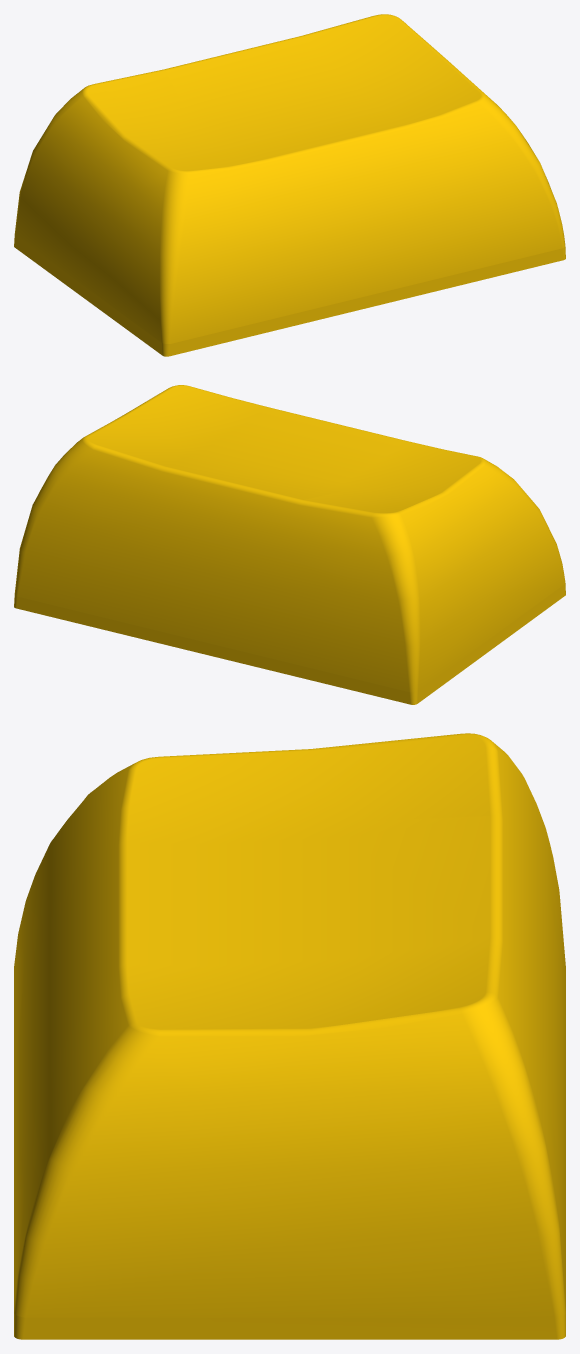
Rendered from KAT_1_5u_r2.glb.
3 views of the same model, one above another, from view 1: azimuth 30°, elevation 25°; view 2: azimuth 150°, elevation 25°; view 3: azimuth 270°, elevation 25° (orthographic). The views are drawn at different scales.
Parts seen in each view (by area): view 1: Object.019; view 2: Object.019; view 3: Object.019.
Boxes of the visible parts, x1,y1,x2,y2 form: Object.019: (14,14,565,356); Object.019: (14,385,565,704); Object.019: (14,733,565,1339).
Bounding box in the file's own units: 27.7 × 10.67 × 18.2.
